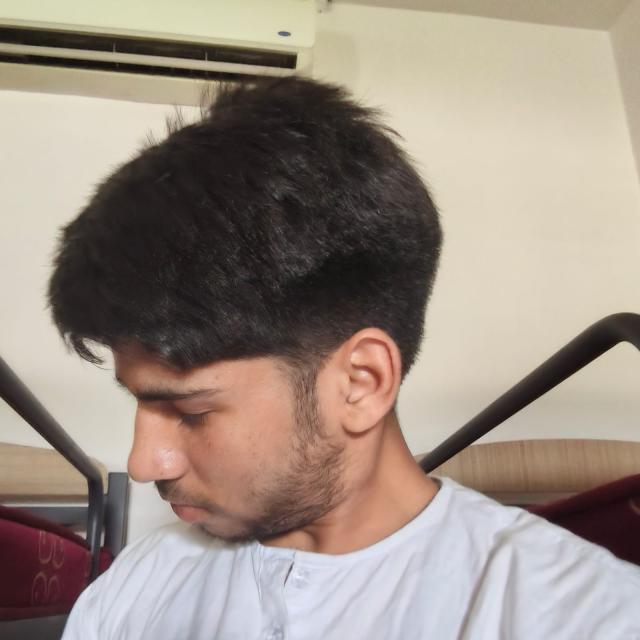no-hairnet: (49, 78, 640, 640), (49, 78, 442, 554)
